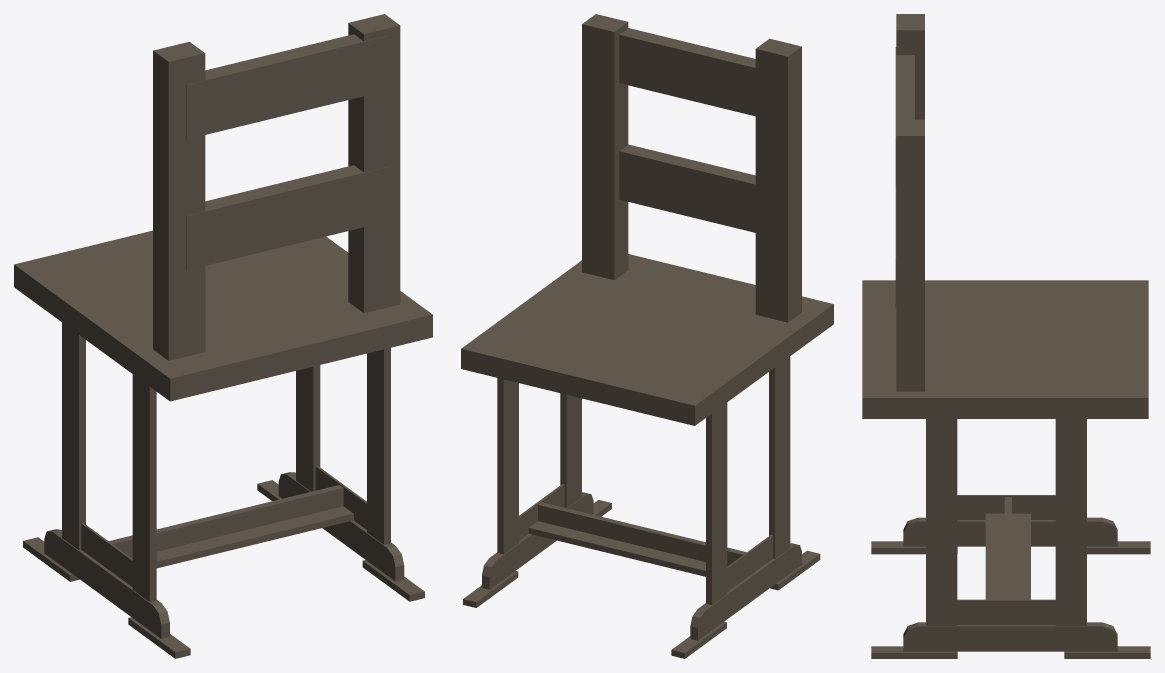
The model's file is Chair.fbx.
3 renders of one model, left to right at view 1: azimuth 30°, elevation 25°; view 2: azimuth 150°, elevation 25°; view 3: azimuth 270°, elevation 25°, orthographic. The views are drawn at different scales.
Parts seen in each view (by area): view 1: Chair; view 2: Chair; view 3: Chair.
Part boxes in pixels (<box>): Chair: <box>14,14,432,658</box>; Chair: <box>461,14,833,658</box>; Chair: <box>862,14,1150,658</box>.
Bounding box in the file's own units: 65.2 × 139 × 67.59.
